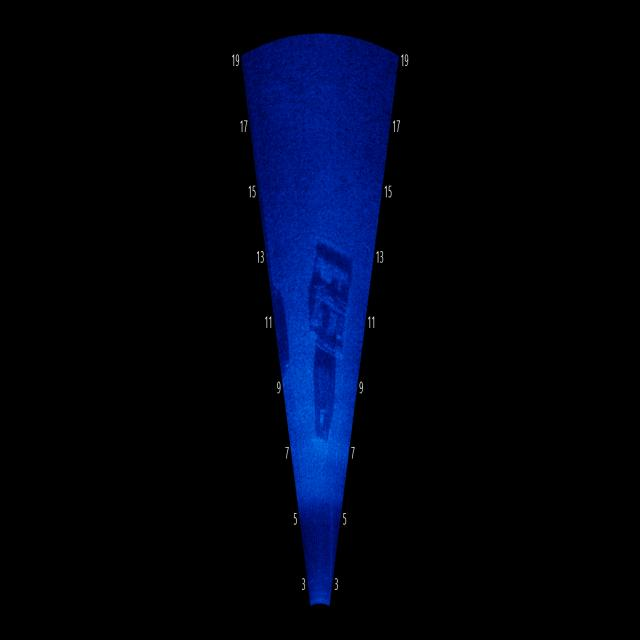square: (301, 228, 353, 455)
